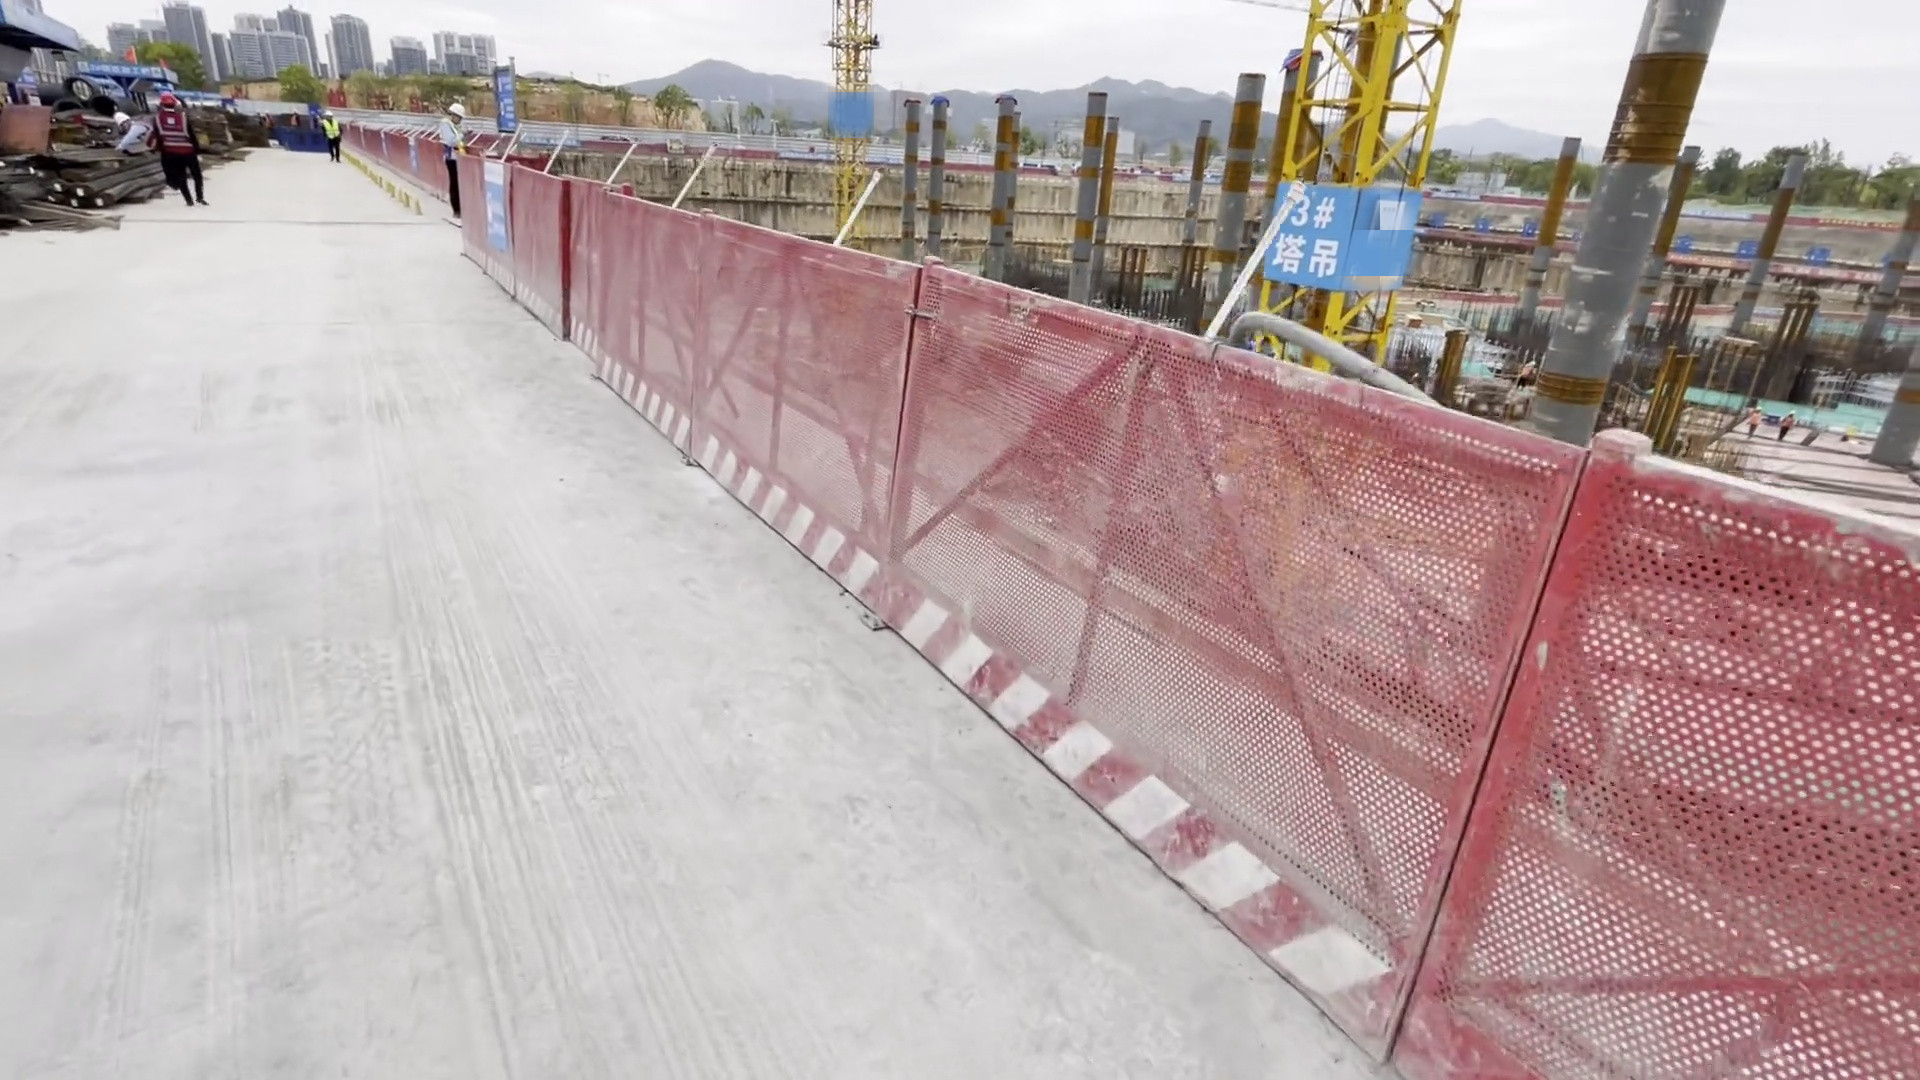helmet: (443, 101, 463, 116), (114, 113, 130, 124), (161, 93, 177, 104), (321, 109, 333, 117)
person: (152, 91, 202, 212), (434, 99, 468, 232), (105, 112, 155, 177), (320, 106, 343, 171)
vest: (156, 114, 192, 158), (320, 119, 340, 140)
